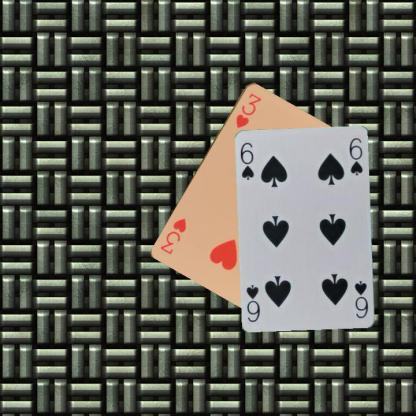3h: (233, 90, 263, 129)
6s: (237, 140, 256, 181), (352, 279, 370, 320)
